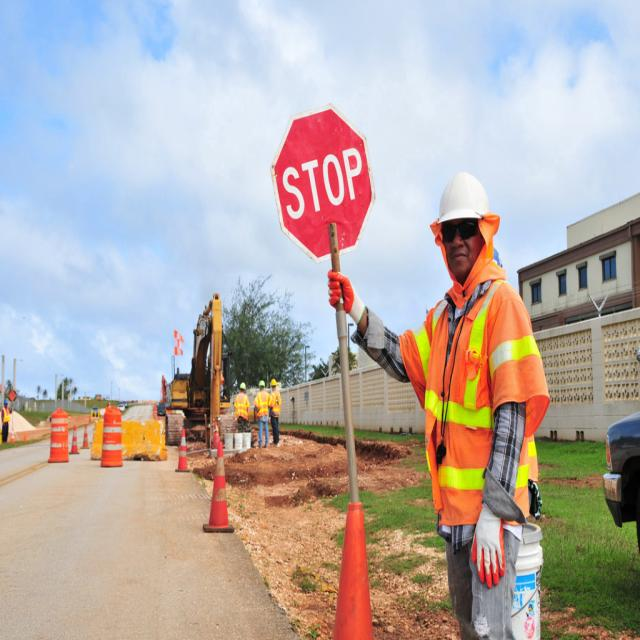Stop-sign: (268, 102, 376, 264)
